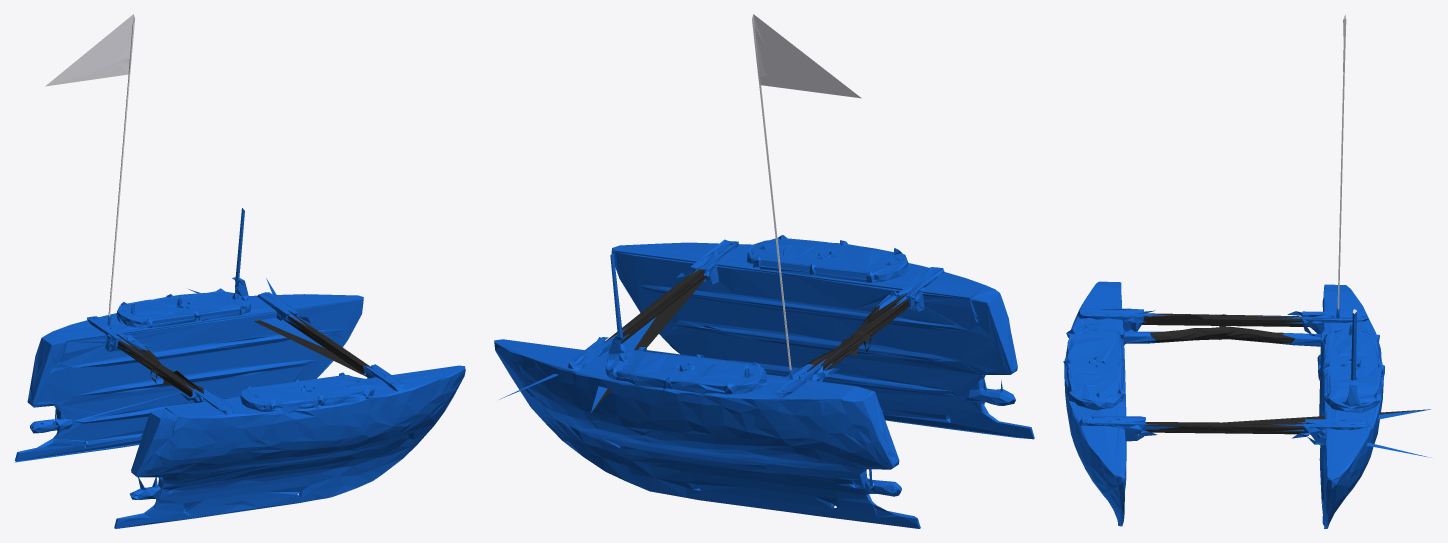
File: blueboat-compressed.dae
3 renders of one model, left to right at view 1: azimuth 30°, elevation 25°; view 2: azimuth 150°, elevation 25°; view 3: azimuth 270°, elevation 25°, orthographic. The views are drawn at different scales.
Visible parts, largest first — view 1: blueboat; view 2: blueboat; view 3: blueboat.
Part boxes in pixels (x1,y1,x2,y2): blueboat: (14, 14, 465, 528); blueboat: (494, 14, 1034, 528); blueboat: (1063, 14, 1431, 528).
Bounding box in the file's own units: 1.24 × 1.05 × 1.43.
